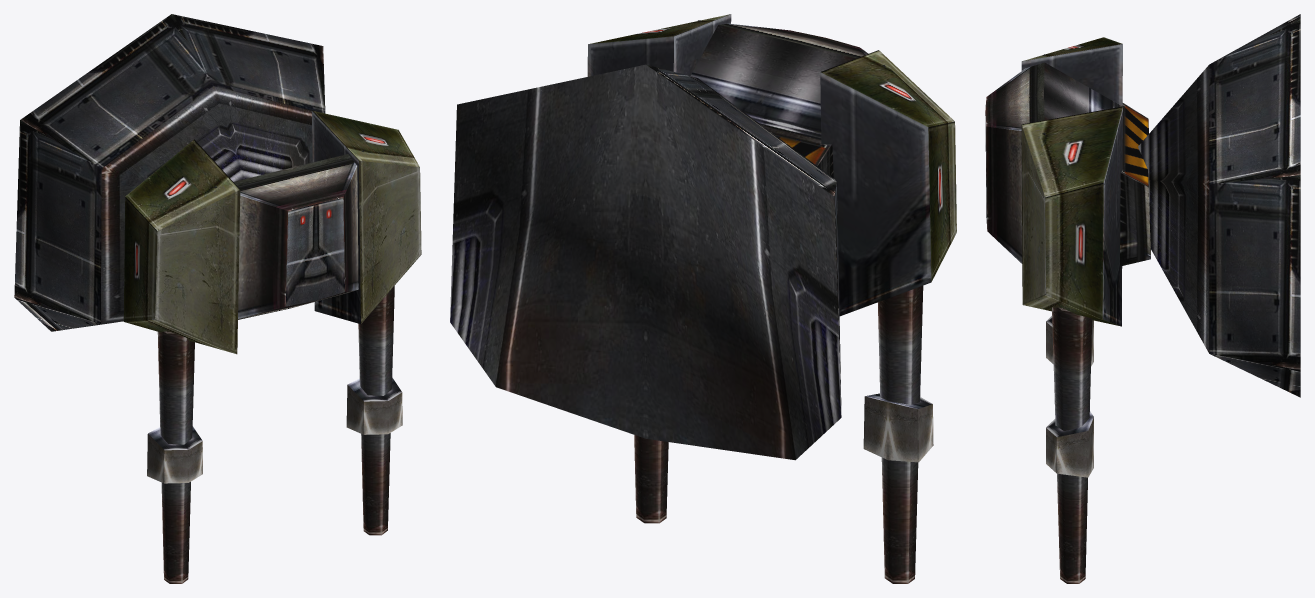
The model's file is turret-19.obj.
3 views of the same model, side by side, from view 1: azimuth 30°, elevation 25°; view 2: azimuth 150°, elevation 25°; view 3: azimuth 270°, elevation 25° (orthographic). The views are drawn at different scales.
Parts seen in each view (by area): view 1: turret_19; view 2: turret_19; view 3: turret_19.
Boxes of the visible parts, bbox=[...] form: turret_19: bbox=[14, 14, 421, 583]; turret_19: bbox=[450, 14, 956, 583]; turret_19: bbox=[985, 14, 1300, 583].
Size of the model in its own units: 2.75 by 3.91 by 2.19.
1 material, 1 textured.
